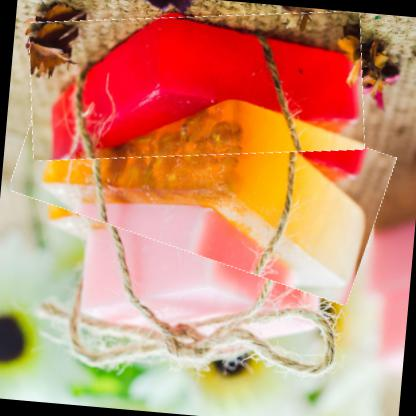soap: (9, 60, 396, 288), (22, 0, 373, 180)
